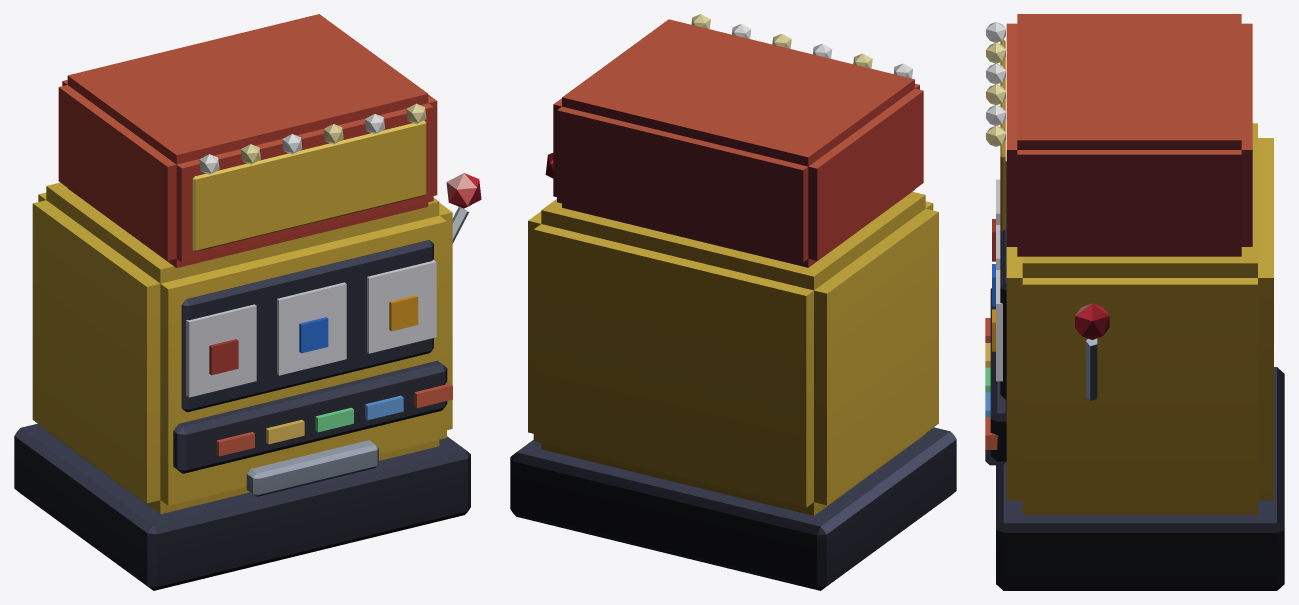
Rendered from slot_machine.glb.
3 views of the same model, side by side, from view 1: azimuth 30°, elevation 25°; view 2: azimuth 150°, elevation 25°; view 3: azimuth 270°, elevation 25° (orthographic). The views are drawn at different scales.
Visible parts, largest first — view 1: slot_machine; view 2: slot_machine; view 3: slot_machine.
Boxes of the visible parts, x1,y1,x2,y2 form: slot_machine: (14, 14, 481, 590); slot_machine: (510, 14, 956, 590); slot_machine: (985, 14, 1284, 590).
Bounding box in the file's own units: 0.834 × 0.907 × 0.56.
